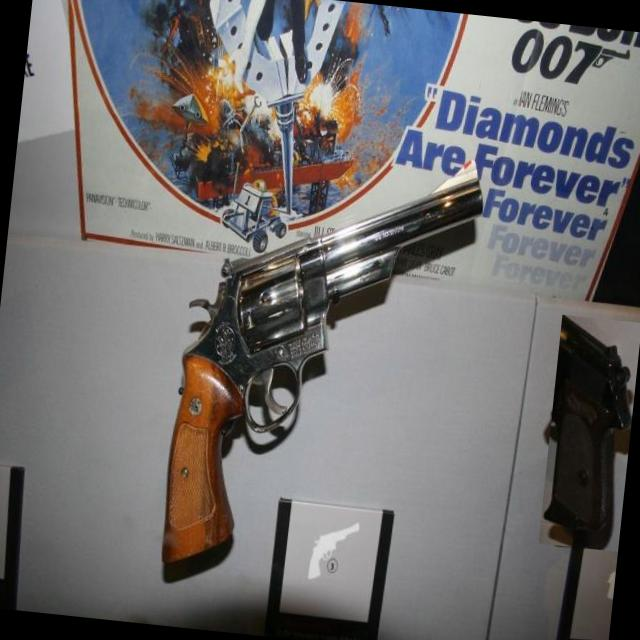Gun: (162, 162, 482, 562), (544, 314, 631, 549)
